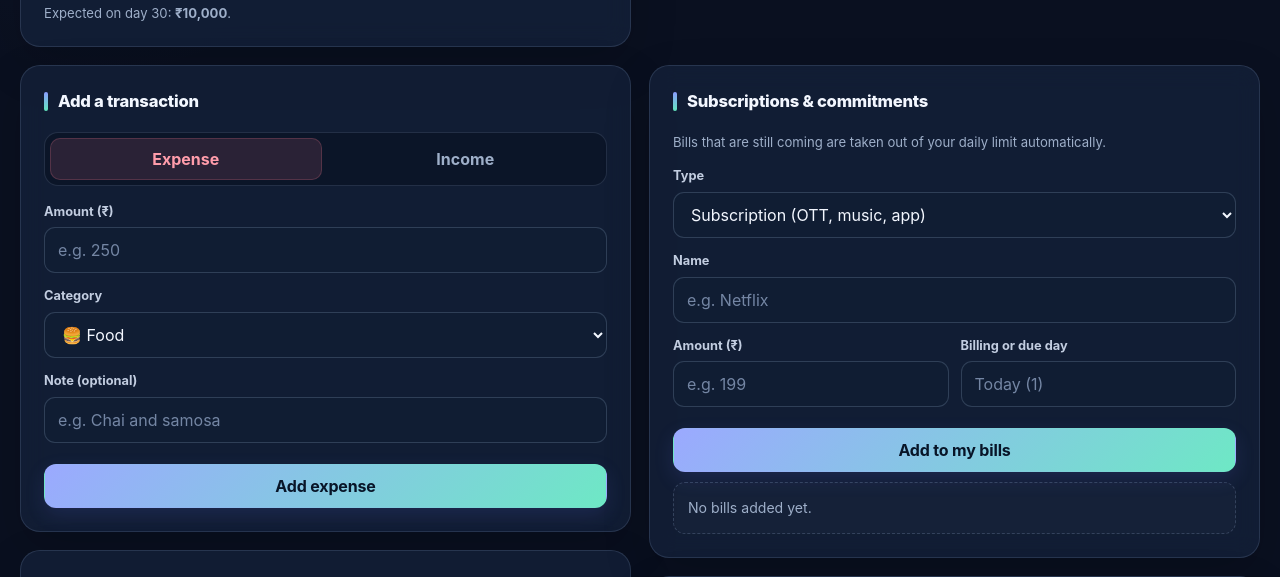
Test: App › a future subscription lowers the safe daily amount but not the balance
(page scrolled)
Type "Netflix" into the field labelled "Name" at (954, 300), box x1=673 y1=277 x2=1236 y2=323
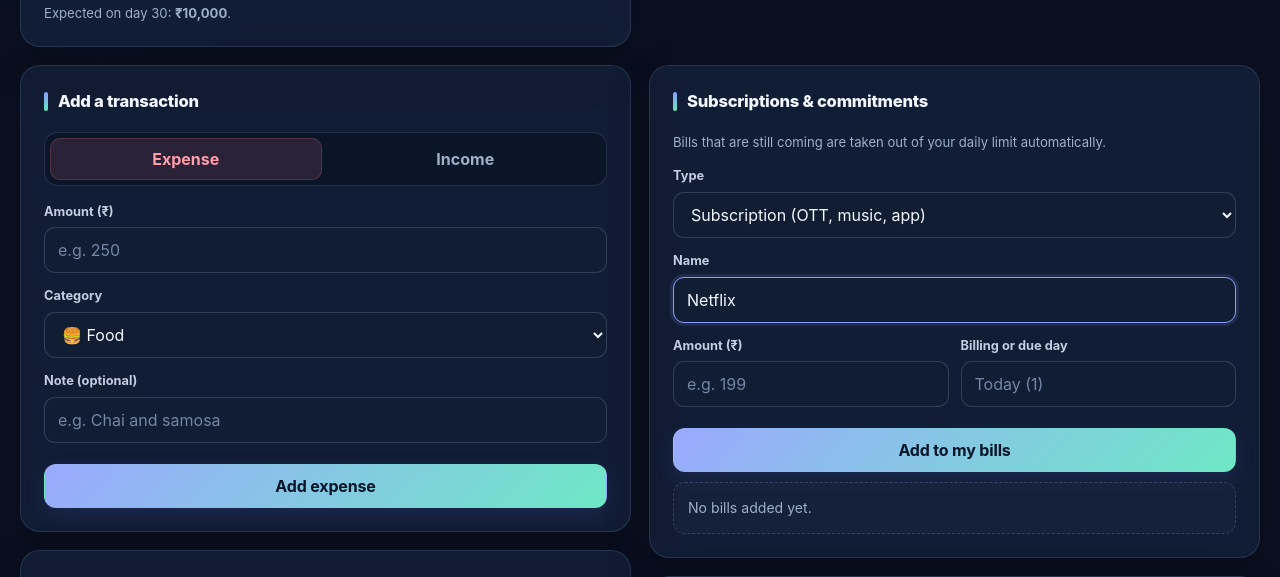
Type "300" into the number field labelled "Amount (₹)" below "Billing or due day" at (811, 384), box x1=673 y1=362 x2=948 y2=408
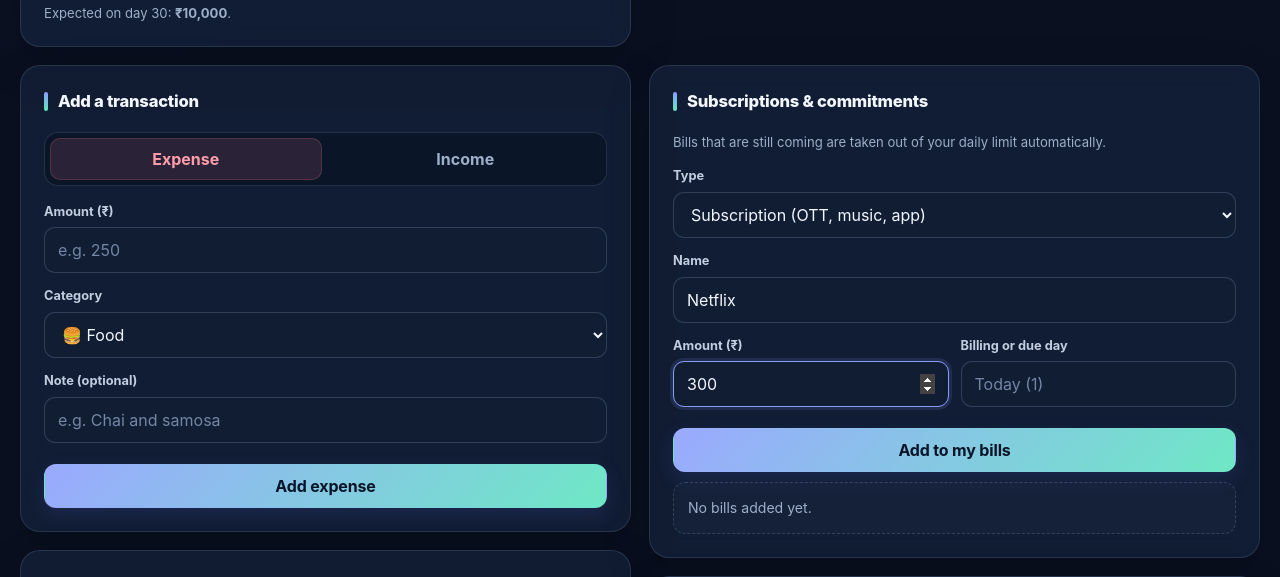
Type "10" into the number field labelled "Billing or due day" at (1098, 384), box x1=960 y1=362 x2=1236 y2=408
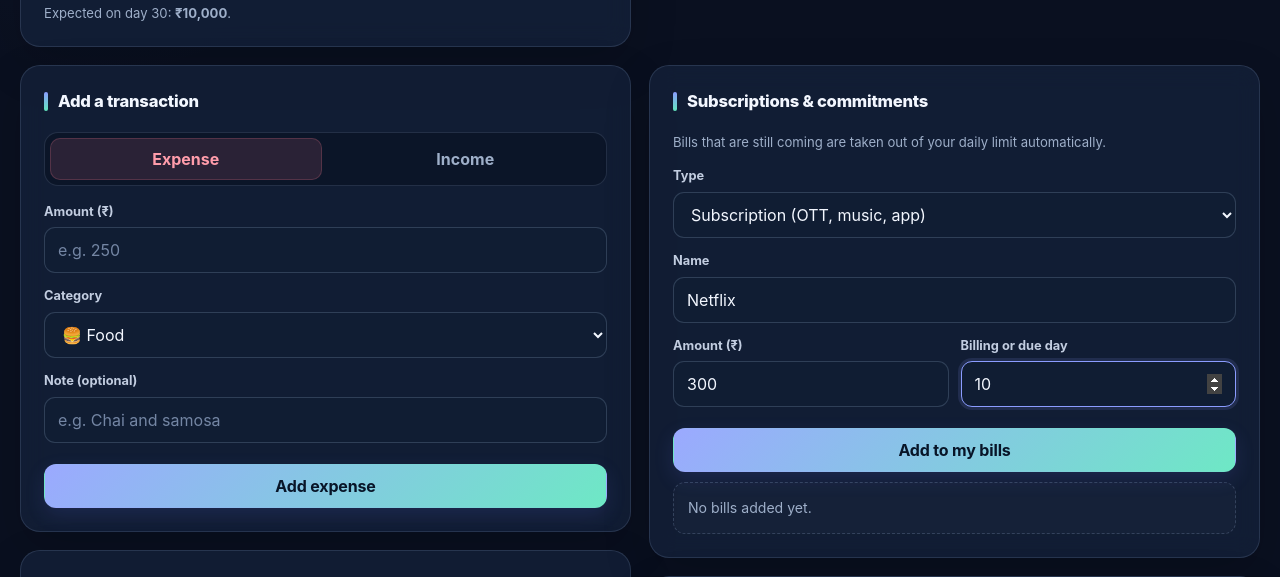
Click the button "Add to my bills" at (954, 450), box x1=673 y1=428 x2=1236 y2=472
(page scrolled)
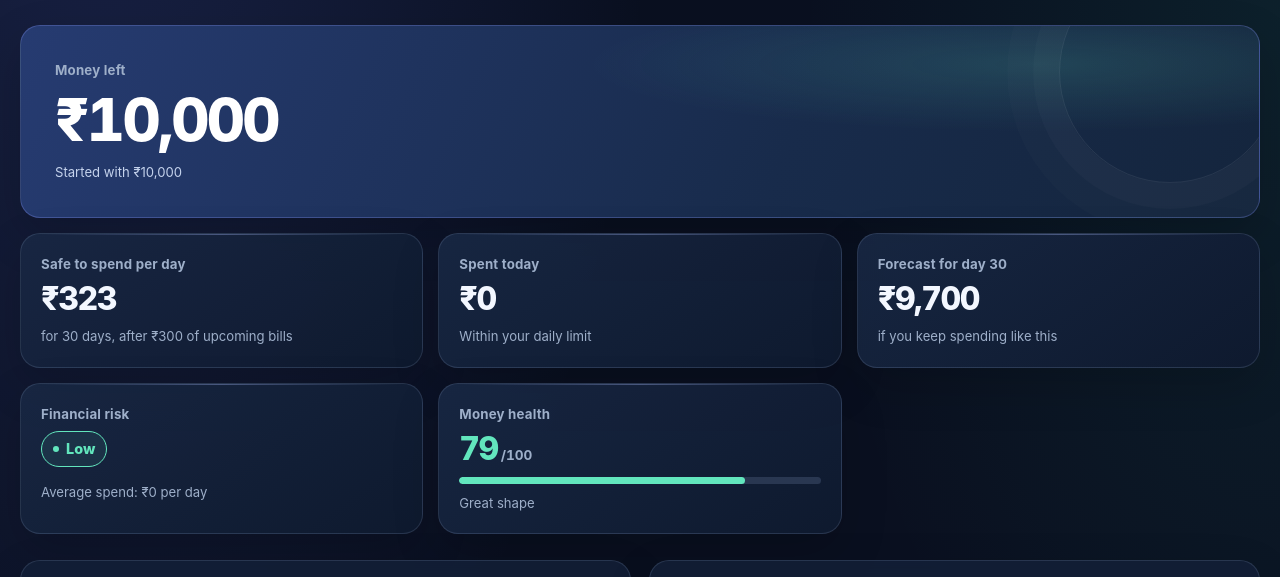
Expected: the text with test id "balance" reads "₹10,000", x1=55 y1=84 x2=278 y2=155
Result: the text with test id "safe-daily" reads "₹323" at x1=41 y1=279 x2=116 y2=318
